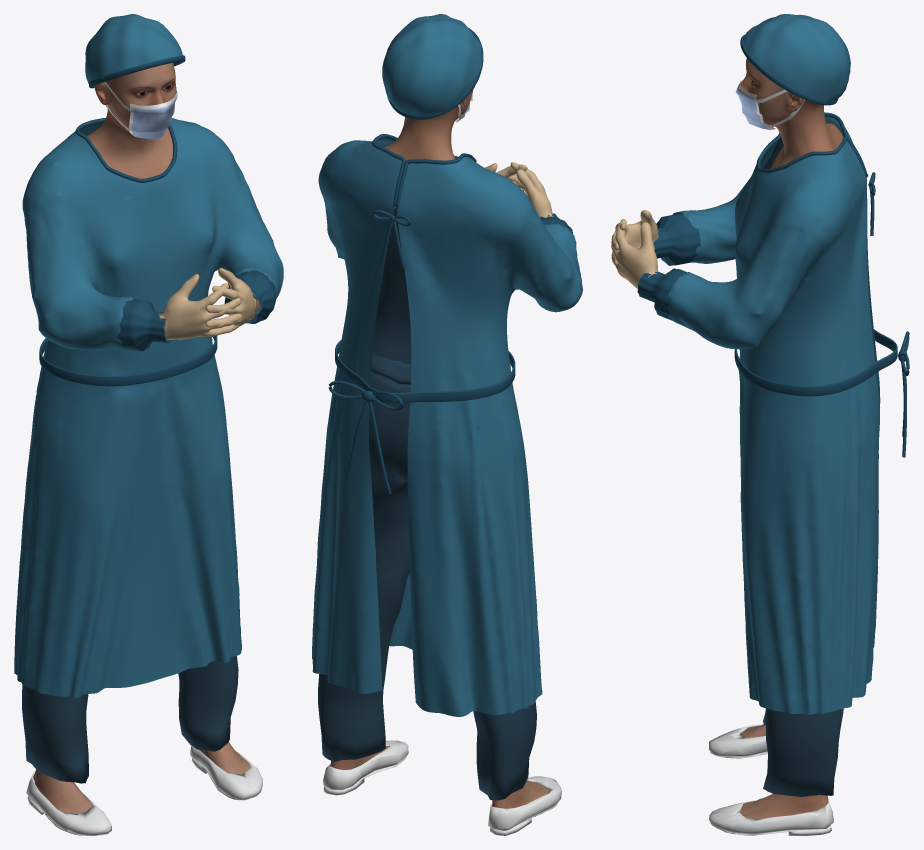
Rendered from paso-5.glb.
3 renders of one model, left to right at view 1: azimuth 30°, elevation 25°; view 2: azimuth 150°, elevation 25°; view 3: azimuth 270°, elevation 25°, orthographic.
Parts seen in each view (by area): view 1: gown, Human.toigo_wool_pants-static, Human-static, Human.toigo_gloves_short-static, surgical-cap, Human.toigo_flats-static, tie-waist-belt, cuff-R, Human.joepal_medical_mouth_protection-static, cuff-L, neck-binding, cap-elastic; view 2: gown, Human.toigo_wool_pants-static, surgical-cap, Human.toigo_flats-static, Human-static, Human.joepal_crude_t-shirt_female-static, tie-waist-belt, Human.toigo_gloves_short-static, neck-binding, cap-elastic; view 3: gown, surgical-cap, Human-static, Human.toigo_wool_pants-static, Human.toigo_flats-static, Human.toigo_gloves_short-static, tie-waist-belt, cuff-R, cuff-L, neck-binding, Human.joepal_medical_mouth_protection-static, cap-elastic.
Part boxes in pixels (bbox=[...]): gown: bbox=[14, 118, 283, 698]; Human.toigo_wool_pants-static: bbox=[22, 656, 238, 783]; Human-static: bbox=[33, 62, 266, 813]; Human.toigo_gloves_short-static: bbox=[158, 268, 257, 339]; surgical-cap: bbox=[85, 14, 183, 83]; Human.toigo_flats-static: bbox=[26, 745, 262, 835]; tie-waist-belt: bbox=[39, 335, 217, 386]; cuff-R: bbox=[116, 299, 172, 351]; Human.joepal_medical_mouth_protection-static: bbox=[104, 82, 177, 139]; cuff-L: bbox=[224, 270, 276, 323]; neck-binding: bbox=[75, 118, 177, 182]; cap-elastic: bbox=[89, 55, 185, 88]; gown: bbox=[312, 138, 582, 716]; Human.toigo_wool_pants-static: bbox=[318, 354, 536, 800]; surgical-cap: bbox=[382, 14, 481, 116]; Human.toigo_flats-static: bbox=[323, 740, 561, 835]; Human-static: bbox=[330, 89, 549, 808]; Human.joepal_crude_t-shirt_female-static: bbox=[372, 208, 411, 364]; tie-waist-belt: bbox=[335, 339, 515, 403]; Human.toigo_gloves_short-static: bbox=[485, 162, 553, 217]; neck-binding: bbox=[372, 134, 476, 208]; cap-elastic: bbox=[387, 28, 483, 119]; gown: bbox=[668, 116, 880, 714]; surgical-cap: bbox=[743, 14, 850, 103]; Human-static: bbox=[740, 58, 843, 818]; Human.toigo_wool_pants-static: bbox=[763, 708, 843, 796]; Human.toigo_flats-static: bbox=[709, 724, 833, 835]; Human.toigo_gloves_short-static: bbox=[611, 210, 658, 288]; tie-waist-belt: bbox=[734, 329, 897, 396]; cuff-R: bbox=[654, 213, 700, 265]; cuff-L: bbox=[637, 268, 686, 320]; neck-binding: bbox=[756, 112, 867, 177]; Human.joepal_medical_mouth_protection-static: bbox=[735, 80, 804, 130]; cap-elastic: bbox=[740, 35, 838, 105].
Bounding box in the file's own units: 0.5521 × 1.7 × 0.5964.
16 materials, 8 textured.
